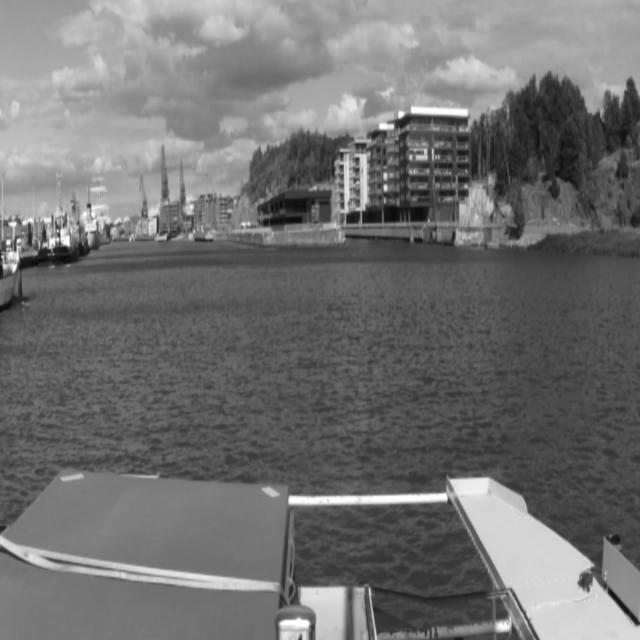ship: (43, 214, 77, 264), (82, 204, 98, 249)
